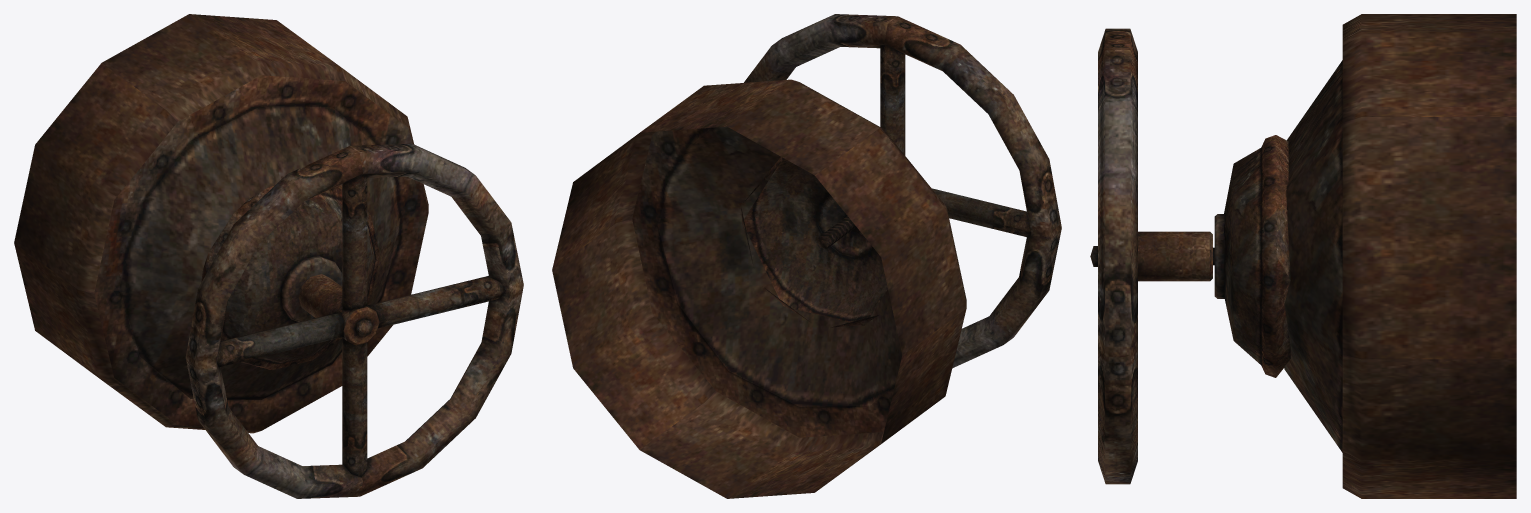
The model's file is valve_iron_rusty02.dae.
3 renders of one model, left to right at view 1: azimuth 30°, elevation 25°; view 2: azimuth 150°, elevation 25°; view 3: azimuth 270°, elevation 25°, orthographic. The views are drawn at different scales.
Visible parts, largest first — view 1: valve_iron_base, valve_iron_valve; view 2: valve_iron_base, valve_iron_valve; view 3: valve_iron_base, valve_iron_valve.
Boxes of the visible parts, box(x1,y1,x2,y2) form: valve_iron_base: box(14, 14, 428, 433); valve_iron_valve: box(185, 143, 523, 498); valve_iron_base: box(552, 79, 966, 498); valve_iron_valve: box(744, 14, 1061, 368); valve_iron_base: box(1214, 14, 1516, 498); valve_iron_valve: box(1090, 28, 1214, 484).
Size of the model in its own units: 0.4159 by 0.4225 by 0.3642.
